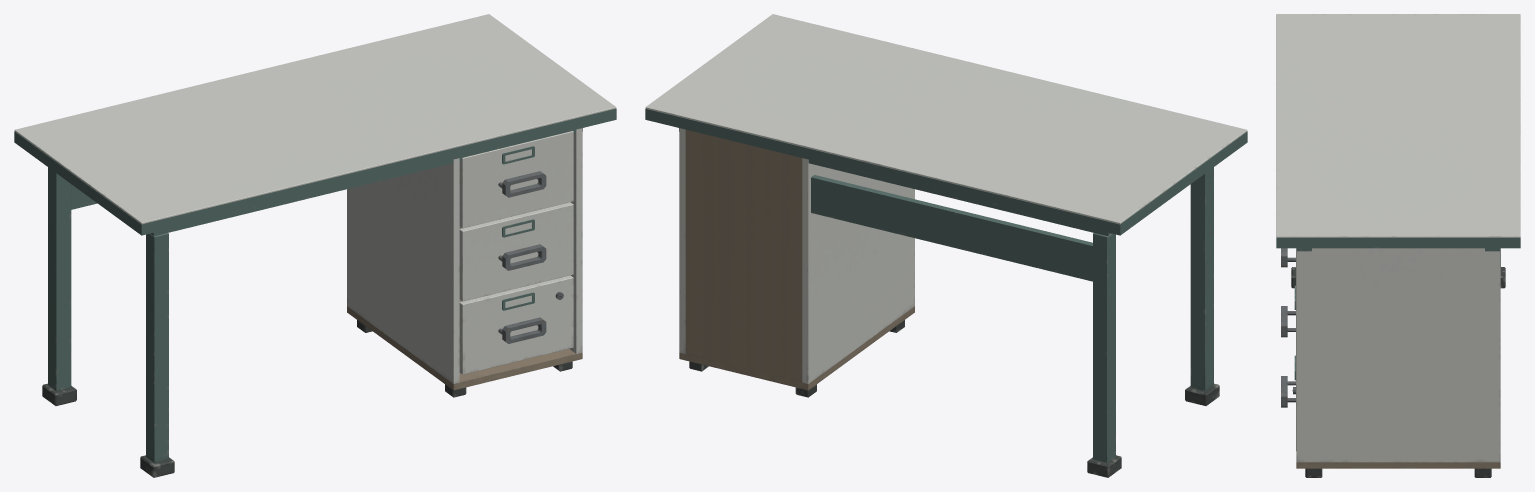
Rendered from office_furniture_desk.glb.
3 renders of one model, left to right at view 1: azimuth 30°, elevation 25°; view 2: azimuth 150°, elevation 25°; view 3: azimuth 270°, elevation 25°, orthographic. The views are drawn at different scales.
Parts seen in each view (by area): view 1: OfficeFurnitureDesk; view 2: OfficeFurnitureDesk; view 3: OfficeFurnitureDesk.
Part boxes in pixels (<box>): OfficeFurnitureDesk: <box>14,14,616,477</box>; OfficeFurnitureDesk: <box>645,14,1247,477</box>; OfficeFurnitureDesk: <box>1276,14,1520,477</box>.
Size of what is drawn, in the model's own units: 1.4 by 0.75 by 0.65.
Materials: 1 (1 with a texture image).
